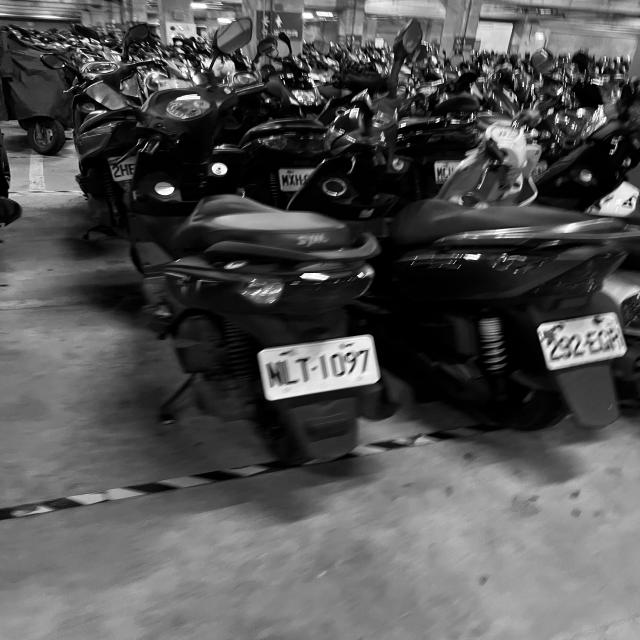-: (310, 363, 318, 372)
0: (330, 352, 346, 378)
1: (318, 354, 329, 379)
7: (356, 347, 376, 373)
9: (343, 350, 358, 375)
T: (295, 358, 311, 382)
plate: (264, 346, 388, 389), (544, 322, 633, 364)
